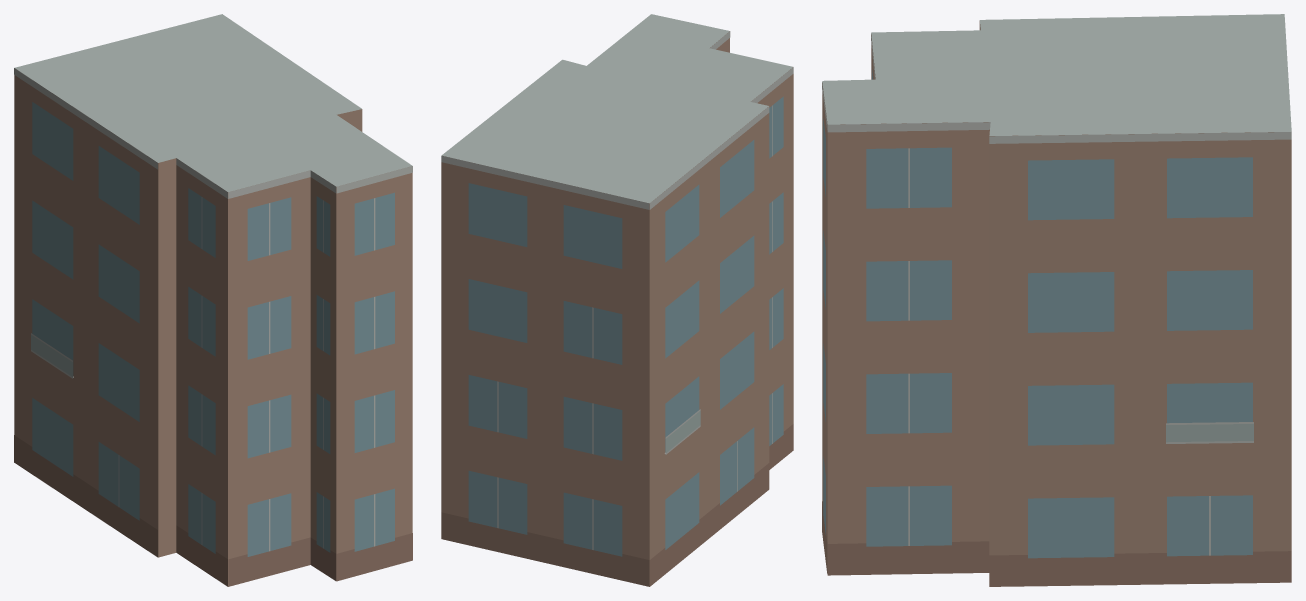
The model's file is survey-upis-32966659.glb.
3 renders of one model, left to right at view 1: azimuth 30°, elevation 25°; view 2: azimuth 150°, elevation 25°; view 3: azimuth 270°, elevation 25°, orthographic. The views are drawn at different scales.
Parts seen in each view (by area): view 1: survey-upis-32966659.tmp; view 2: survey-upis-32966659.tmp; view 3: survey-upis-32966659.tmp.
Part boxes in pixels (left/top/right/bottom): survey-upis-32966659.tmp: left=14, top=14, right=412, bottom=586; survey-upis-32966659.tmp: left=441, top=14, right=793, bottom=586; survey-upis-32966659.tmp: left=822, top=14, right=1291, bottom=586.
Bounding box in the file's own units: 8.2 × 14.1 × 13.32.
